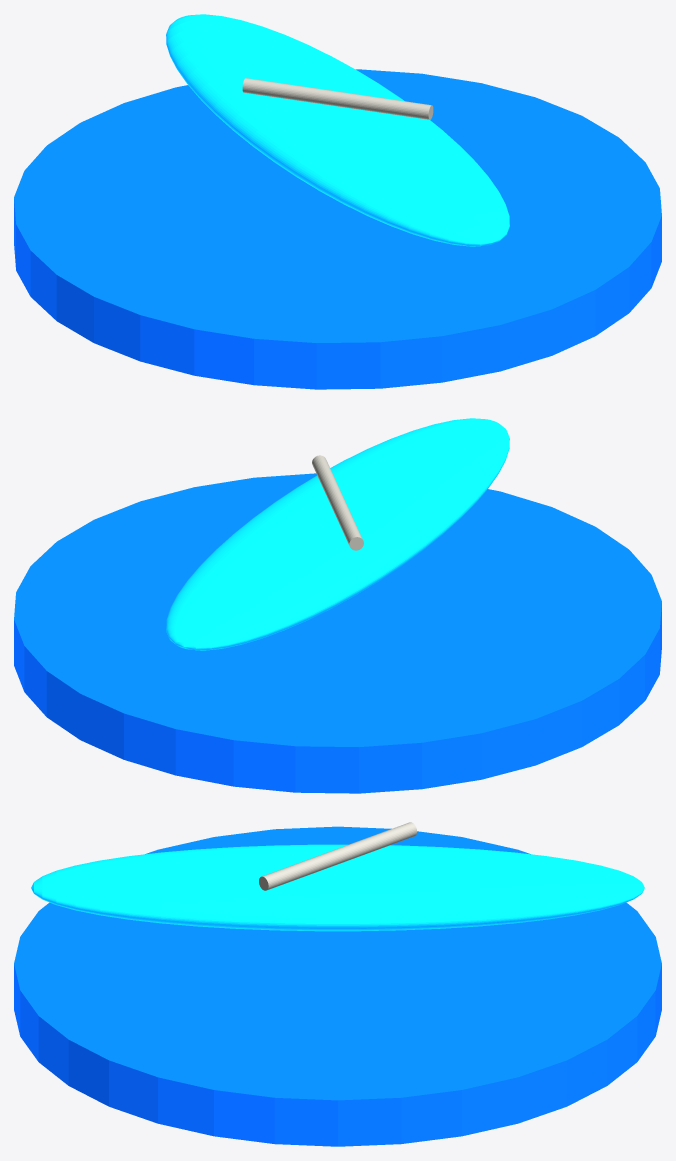
Rendered from sports_surfboard.dae.
The picture shows the model from 3 angles, top to bottom: view 1: azimuth 30°, elevation 25°; view 2: azimuth 150°, elevation 25°; view 3: azimuth 270°, elevation 25°; orthographic projection.
Visible parts, largest first — view 1: 04_19_Popular_Sports_Surfboard_ROOT_base, 04_19_Popular_Sports_Surfboard_part_01, 04_19_Popular_Sports_Surfboard_part_02; view 2: 04_19_Popular_Sports_Surfboard_ROOT_base, 04_19_Popular_Sports_Surfboard_part_01, 04_19_Popular_Sports_Surfboard_part_02; view 3: 04_19_Popular_Sports_Surfboard_ROOT_base, 04_19_Popular_Sports_Surfboard_part_01, 04_19_Popular_Sports_Surfboard_part_02.
Boxes of the visible parts, x1=… form: 04_19_Popular_Sports_Surfboard_ROOT_base: x1=14, y1=69, x2=661, y2=389; 04_19_Popular_Sports_Surfboard_part_01: x1=166, y1=14, x2=509, y2=246; 04_19_Popular_Sports_Surfboard_part_02: x1=242, y1=78, x2=433, y2=119; 04_19_Popular_Sports_Surfboard_ROOT_base: x1=14, y1=473, x2=661, y2=793; 04_19_Popular_Sports_Surfboard_part_01: x1=166, y1=418, x2=509, y2=650; 04_19_Popular_Sports_Surfboard_part_02: x1=312, y1=455, x2=363, y2=550; 04_19_Popular_Sports_Surfboard_ROOT_base: x1=14, y1=826, x2=661, y2=1146; 04_19_Popular_Sports_Surfboard_part_01: x1=31, y1=844, x2=644, y2=931; 04_19_Popular_Sports_Surfboard_part_02: x1=259, y1=822, x2=416, y2=890.
Bounding box in the file's own units: 0.76 × 0.2072 × 0.76.
